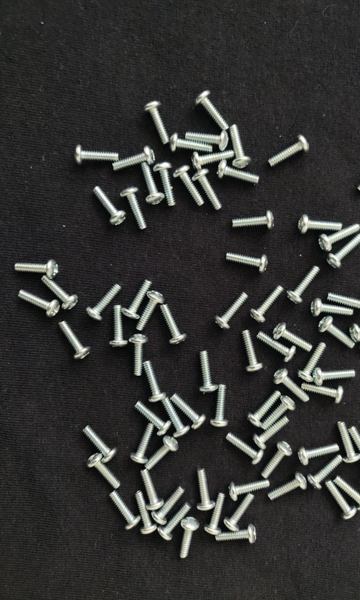shortscrew: (267, 135, 311, 168), (195, 90, 229, 132), (157, 502, 191, 542), (93, 186, 127, 226), (287, 264, 320, 305), (82, 425, 117, 463), (250, 285, 284, 324), (251, 416, 290, 450), (87, 283, 121, 322), (325, 480, 357, 521), (170, 394, 206, 430), (273, 368, 310, 403), (151, 486, 184, 525), (60, 321, 92, 361), (255, 332, 296, 363), (174, 164, 204, 206), (272, 323, 314, 353), (42, 275, 78, 310), (247, 391, 281, 428), (215, 293, 248, 331), (318, 316, 356, 349), (109, 491, 140, 531), (17, 290, 61, 318), (307, 456, 342, 491), (135, 401, 170, 436), (261, 396, 297, 430), (87, 454, 121, 490), (122, 280, 152, 320), (143, 100, 169, 146), (326, 235, 360, 270), (318, 224, 360, 252), (120, 187, 147, 230), (193, 169, 222, 209), (136, 291, 165, 331), (145, 436, 179, 470), (224, 494, 254, 532), (298, 343, 326, 383), (160, 304, 187, 345), (268, 473, 307, 501), (263, 442, 293, 478), (112, 147, 155, 172), (140, 163, 165, 206), (142, 360, 167, 402), (163, 399, 191, 436), (217, 160, 260, 184), (153, 162, 176, 205), (241, 330, 264, 373), (298, 444, 340, 467), (142, 470, 166, 510), (230, 124, 251, 169), (137, 490, 158, 535), (229, 479, 270, 502), (131, 423, 154, 464), (334, 476, 360, 511), (205, 493, 226, 536), (74, 145, 119, 165), (339, 422, 360, 464), (179, 517, 200, 559), (298, 214, 342, 234), (302, 383, 345, 403), (169, 135, 214, 154), (186, 131, 228, 151), (226, 252, 268, 272), (191, 151, 235, 170), (109, 305, 128, 349), (14, 260, 58, 279), (233, 211, 274, 230), (216, 525, 257, 544), (129, 335, 148, 376), (310, 299, 353, 317), (313, 368, 356, 386), (210, 385, 228, 428), (199, 351, 218, 391), (327, 293, 360, 316), (197, 469, 215, 511), (350, 427, 360, 467), (349, 323, 360, 343), (358, 157, 360, 193)
